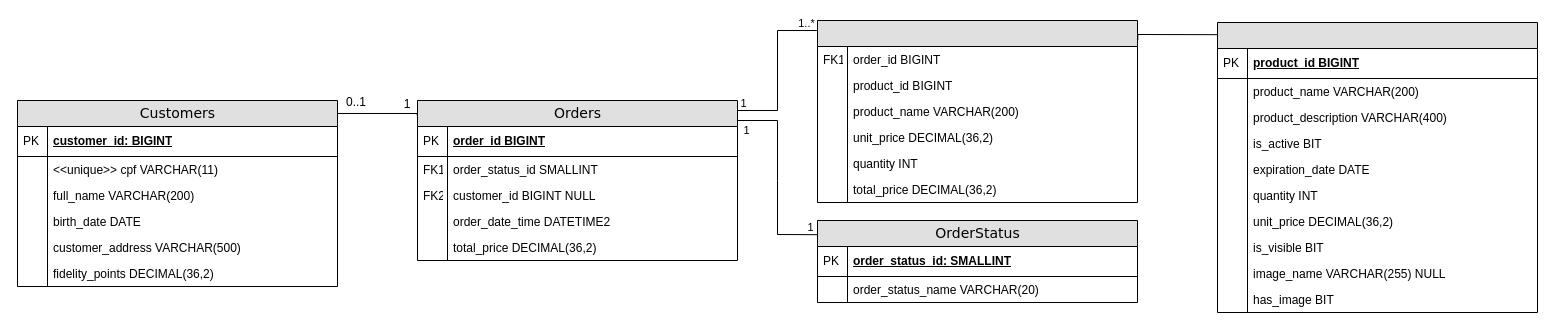
This 1555x333 diagram has some shape labels left out. The shapes that lost their labels are listed below. From the top down, each one's box as (x1, y1, x2, y2) in pixels, then its label:
(816, 20, 1138, 202): CartProducts
(1216, 22, 1538, 312): InventoryProducts
